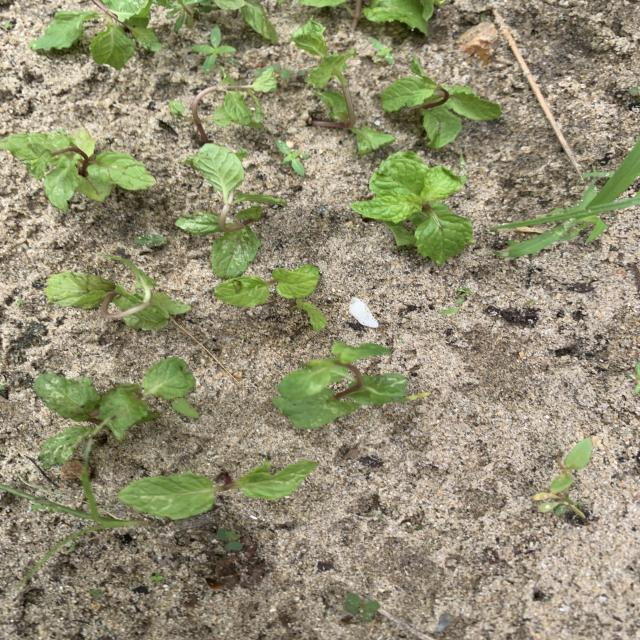crop: (34, 357, 195, 467), (290, 19, 394, 156), (177, 146, 285, 276), (351, 152, 473, 263), (1, 129, 154, 209), (119, 460, 317, 520), (273, 343, 407, 427), (45, 255, 190, 328), (382, 57, 499, 147), (31, 1, 161, 67), (168, 68, 277, 142), (216, 265, 326, 330), (300, 1, 443, 34), (210, 1, 275, 40)
weed: (493, 138, 639, 256), (1, 476, 136, 585), (552, 438, 591, 491), (192, 27, 235, 71), (160, 1, 212, 30), (533, 491, 584, 516), (278, 141, 309, 175), (254, 64, 309, 83), (344, 593, 379, 620), (217, 528, 241, 550), (372, 39, 394, 62), (135, 235, 165, 247), (404, 392, 430, 401), (456, 288, 471, 302), (90, 590, 103, 598), (150, 574, 163, 581)
